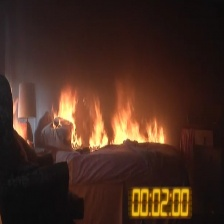fire: (54, 82, 173, 150), (4, 96, 32, 146)
